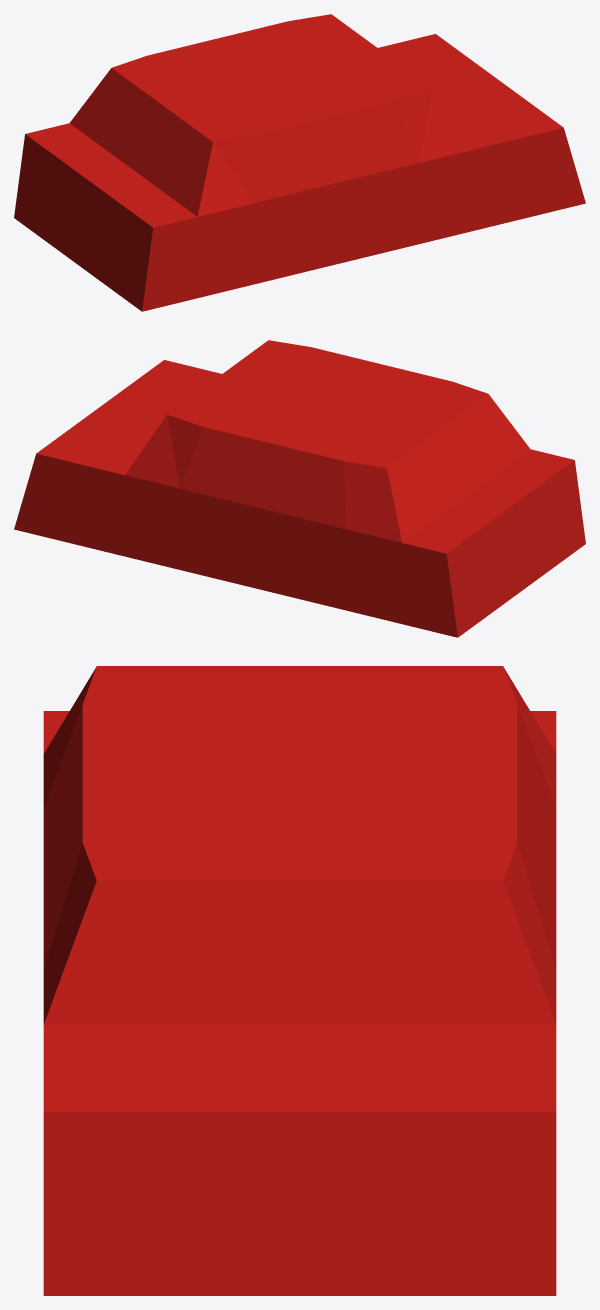
The model's file is testcar.dae.
3 views of the same model, one above another, from view 1: azimuth 30°, elevation 25°; view 2: azimuth 150°, elevation 25°; view 3: azimuth 270°, elevation 25° (orthographic). The views are drawn at different scales.
Parts seen in each view (by area): view 1: Cube; view 2: Cube; view 3: Cube.
Boxes of the visible parts, bbox=[...] form: Cube: bbox=[14, 14, 585, 311]; Cube: bbox=[14, 340, 585, 637]; Cube: bbox=[43, 666, 556, 1295].
Size of the model in its own units: 4 by 2 by 1.2.
